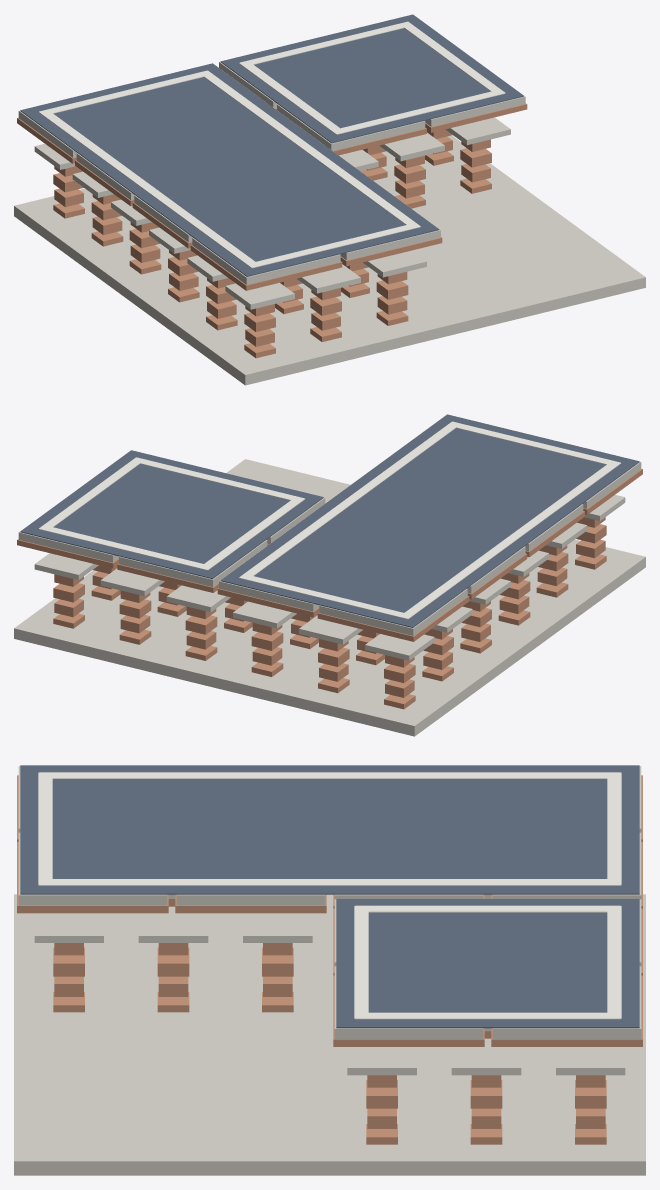
File: roman-bathhouse-and-palaestra-tepidarium-hypocaust-cut-9cb2278c__37875.glb
The picture shows the model from 3 angles, top to bottom: view 1: azimuth 30°, elevation 25°; view 2: azimuth 150°, elevation 25°; view 3: azimuth 270°, elevation 25°; orthographic projection. The views are drawn at different scales.
Visible parts, largest first — view 1: tepidarium-hypocaust-cutaway-floor; view 2: tepidarium-hypocaust-cutaway-floor; view 3: tepidarium-hypocaust-cutaway-floor.
Part boxes in pixels (x1,y1,x2,y2): tepidarium-hypocaust-cutaway-floor: (14,14,645,385); tepidarium-hypocaust-cutaway-floor: (14,414,645,736); tepidarium-hypocaust-cutaway-floor: (14,765,645,1175).
Bounding box in the file's own units: 4 × 1.02 × 4.
